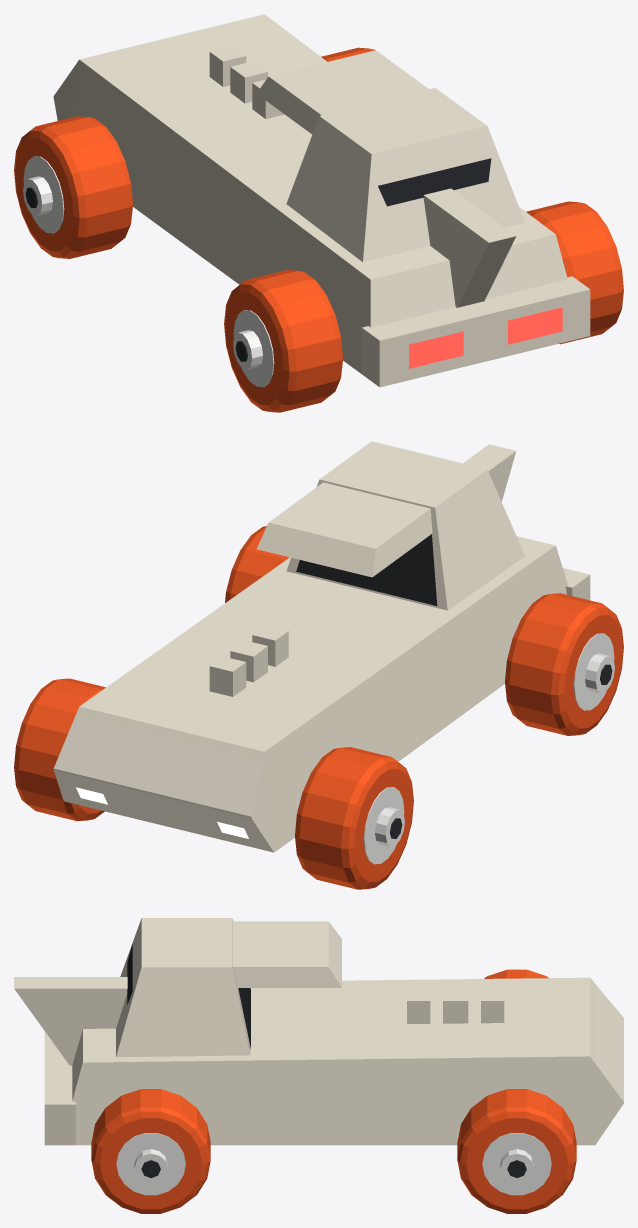
The model's file is latte.glb.
3 renders of one model, top to bottom at view 1: azimuth 30°, elevation 25°; view 2: azimuth 150°, elevation 25°; view 3: azimuth 270°, elevation 25°, orthographic. The views are drawn at different scales.
Visible parts, largest first — view 1: body, wheel_RL, wheel_FL, wheel_RR; view 2: body, wheel_FL, wheel_RL, wheel_FR, wheel_RR; view 3: body, wheel_RR, wheel_FR, wheel_FL.
Boxes of the visible parts, x1,y1,x2,y2 form: body: (53,14,590,387); wheel_RL: (224,270,342,412); wheel_FL: (14,116,132,258); wheel_RR: (526,201,623,344); body: (53,441,590,852); wheel_FL: (295,747,413,889); wheel_RL: (505,593,623,735); wheel_FR: (14,678,105,821); wheel_RR: (225,526,289,602); body: (14,918,623,1145); wheel_RR: (91,1089,210,1213); wheel_FR: (457,1089,576,1213); wheel_FL: (484,969,548,978).
Size of the model in its own units: 2.17 by 1.32 by 3.6.
